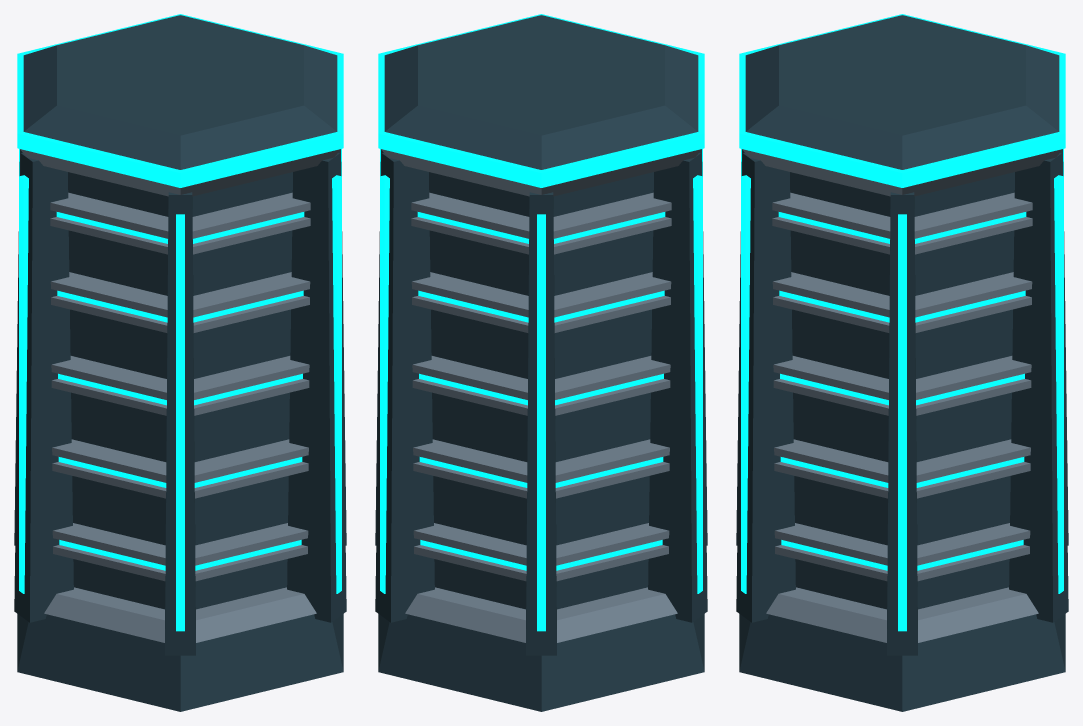
Rendered from deflector_pylon.glb.
3 views of the same model, side by side, from view 1: azimuth 30°, elevation 25°; view 2: azimuth 150°, elevation 25°; view 3: azimuth 270°, elevation 25° (orthographic).
Parts seen in each view (by area): view 1: Deflector_Pylon; view 2: Deflector_Pylon; view 3: Deflector_Pylon.
Boxes of the visible parts, x1=… form: Deflector_Pylon: x1=14, y1=14, x2=346, y2=711; Deflector_Pylon: x1=375, y1=14, x2=707, y2=711; Deflector_Pylon: x1=736, y1=14, x2=1068, y2=711.
Size of the model in its own units: 4.12 by 6.72 by 3.63.
